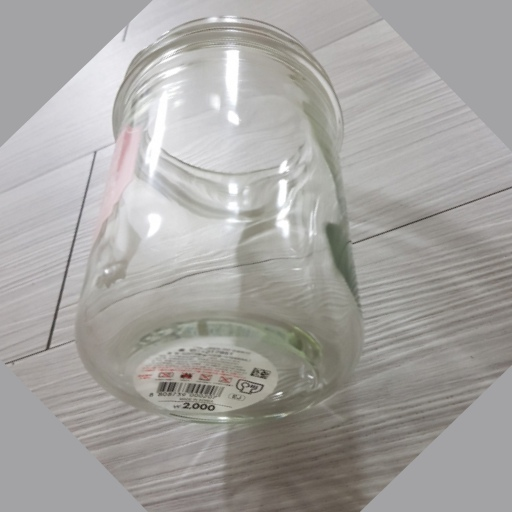Glass_5: (72, 18, 367, 427)
